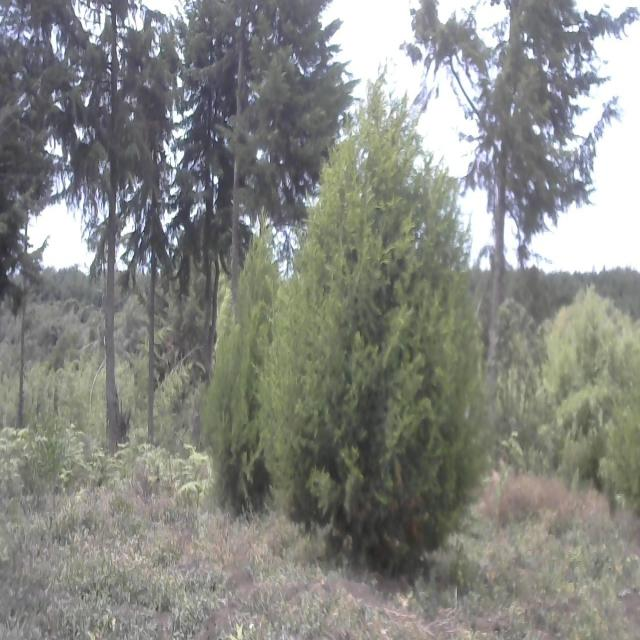Juniperus procesera: (273, 85, 492, 557), (406, 0, 640, 300), (44, 2, 180, 425), (182, 0, 355, 308), (205, 210, 290, 502), (0, 0, 44, 322)
